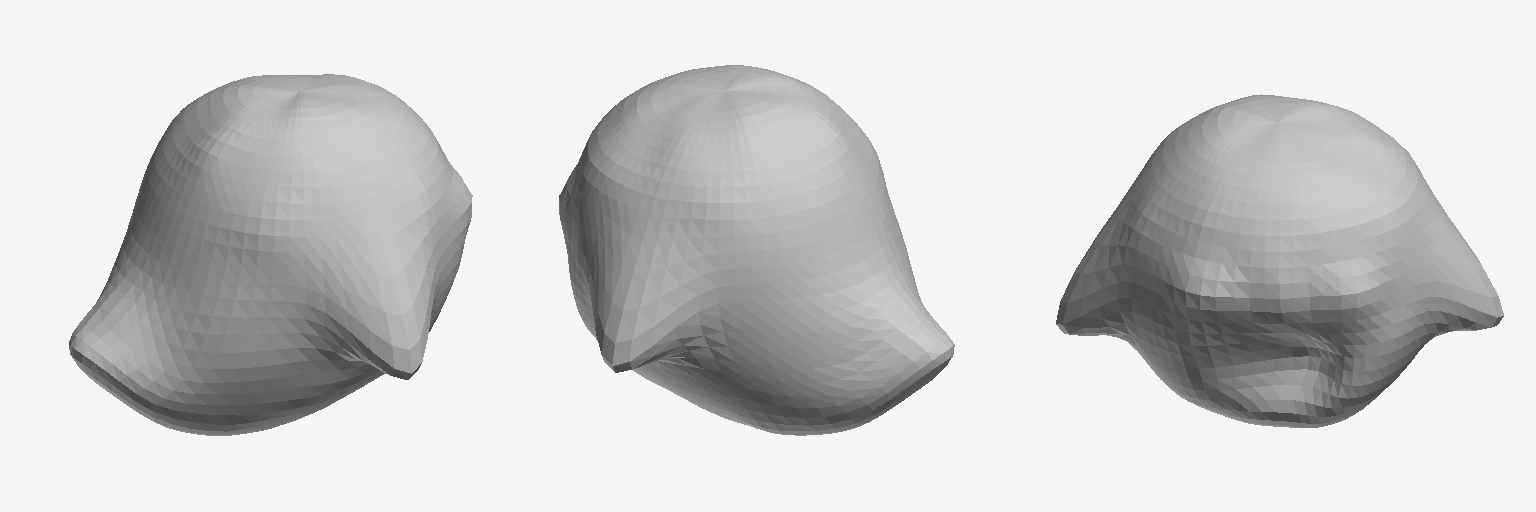
File: boo_body.obj
The picture shows the model from 3 angles: view 1: azimuth 30°, elevation 25°; view 2: azimuth 150°, elevation 25°; view 3: azimuth 270°, elevation 25°; orthographic projection.
Visible parts, largest first — view 1: Sphere; view 2: Sphere; view 3: Sphere.
Boxes of the visible parts, box(x1,y1,x2,y2) form: Sphere: box(69, 74, 472, 435); Sphere: box(559, 65, 954, 435); Sphere: box(1056, 94, 1503, 427).
Size of the model in its own units: 2.5 by 2.08 by 2.68.